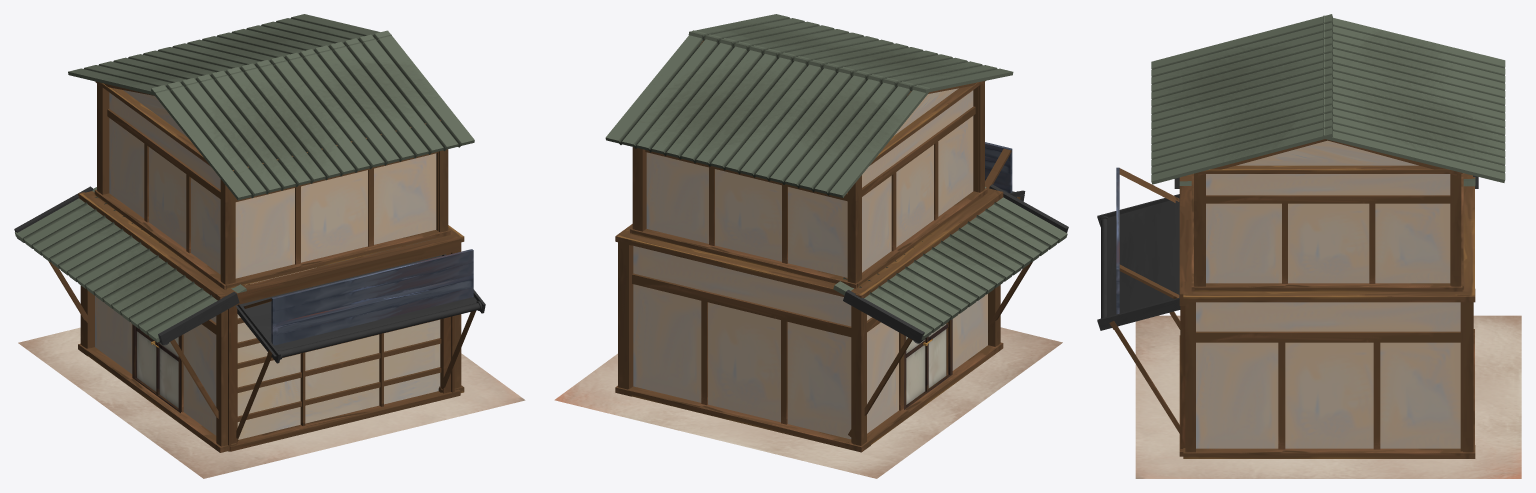
The model's file is Nha 4.fbx.
3 views of the same model, side by side, from view 1: azimuth 30°, elevation 25°; view 2: azimuth 150°, elevation 25°; view 3: azimuth 270°, elevation 25° (orthographic). The views are drawn at different scales.
Visible parts, largest first — view 1: Plane.031; view 2: Plane.031; view 3: Plane.031.
Part boxes in pixels (bbox=[...]): Plane.031: bbox=[14, 14, 525, 478]; Plane.031: bbox=[554, 14, 1068, 478]; Plane.031: bbox=[1097, 14, 1521, 478].
Size of the model in its own units: 1081 by 924 by 1098.
